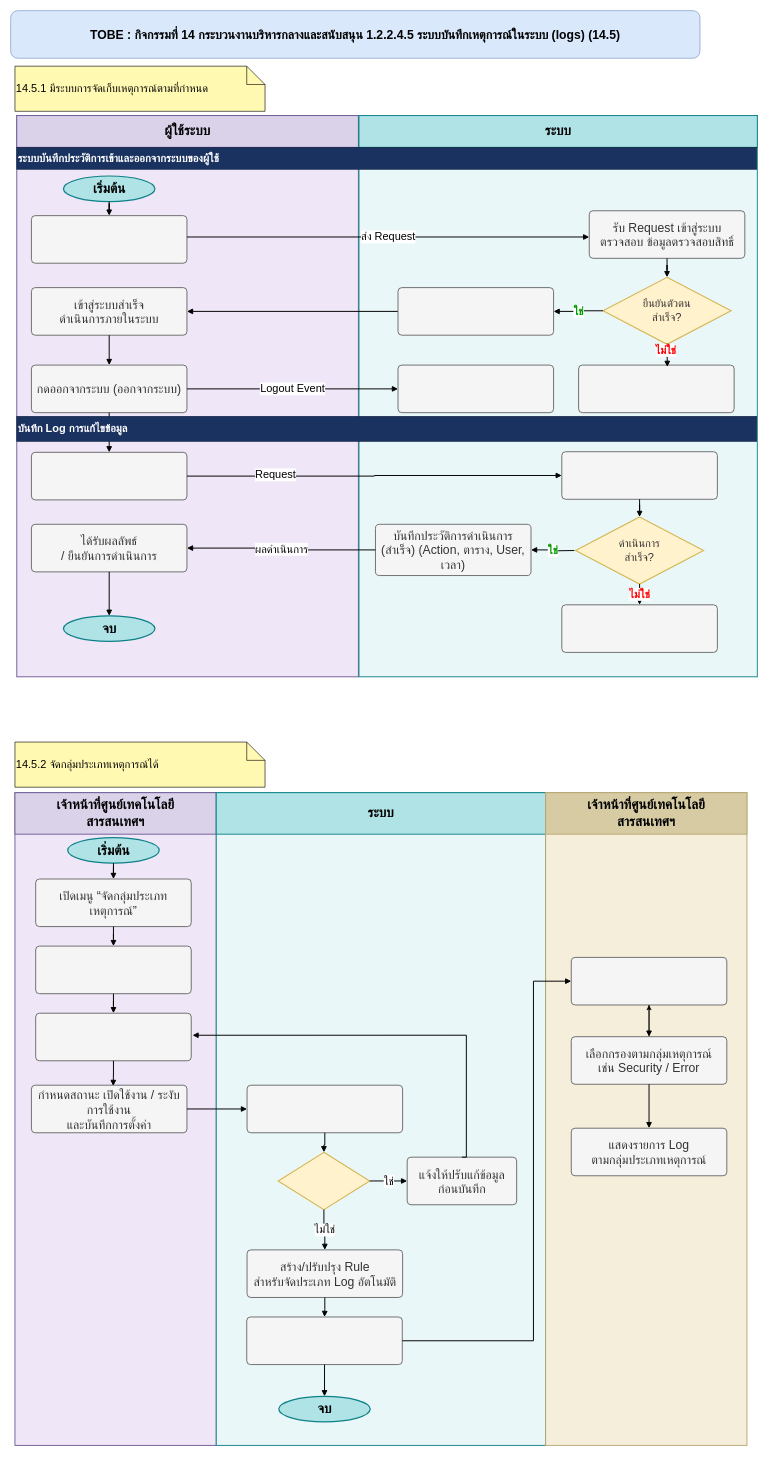
The diagram is 769 pixels wide and 1457 high, and some of its shapes have lost their labels. Each missing label, with the centre of its shape:
กรอก ชื่อผู้ใช้งานและรหัสผ่าน กดปุ่มเข้าสู่ระบบ: point 109,239
กำหนดรายละเอียดกลุ่ม ชื่อกลุ่ม / รหัส / คำอธิบาย / Severity / สีแสดงผล: point 113,1036
ข้อมูลกลุ่ม ซ้ำหรือไม่ครบ?: point 323,1180
ดำเนินการในฐานข้อมูล: point 639,475
นำกลุ่มเหตุการณ์ไปใช้กับ หน้ารายงานตัวกรองประวัติการใช้งานระบบ: point 324,1340
บันทึกข้อมูลพื้นฐาน กลุ่มประเภทเหตุการณ์: point 324,1108
บันทึกประวัติ ออกจากระบบ (ระยะเวลาการใช้งาน, เวลา, User): point 475,388
บันทึกประวัติ เข้าสู่ระบบ (สำเร็จ) (เวลา, IP, User, สถานะ): point 475,311
บันทึกประวัติการดำเนินการ (ล้มเหลว) (Action, User, เวลา, สาเหตุ): point 639,628
บันทึกประวัติเข้าสู่ระบบ (ล้มเหลว) (เวลา, IP, User, สาเหตุ): point 656,388
เปิดหน้าค้นหา/ตรวจสอบ Log: point 649,981
เพิ่ม / แก้ไข / ปิดใช้งาน กลุ่มประเภทเหตุการณ์: point 113,969
เลือกดำเนินการ (เพิ่ม / แก้ไข / ลบ): point 109,476
